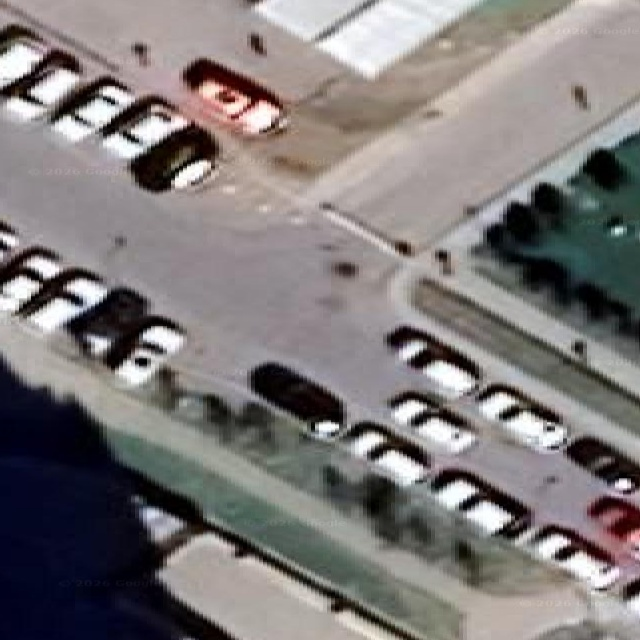car: (183, 59, 287, 134), (249, 363, 343, 437), (431, 468, 529, 536), (386, 327, 480, 395), (128, 125, 218, 192), (476, 384, 567, 449), (64, 287, 148, 355), (529, 527, 619, 590), (103, 316, 184, 386), (20, 268, 107, 332), (2, 51, 80, 120), (51, 77, 134, 141), (343, 423, 427, 486), (388, 392, 476, 452), (103, 98, 188, 160), (564, 435, 639, 492), (0, 247, 60, 312), (588, 495, 639, 557), (0, 27, 48, 88), (131, 495, 187, 544), (0, 220, 18, 260), (624, 579, 639, 615)
